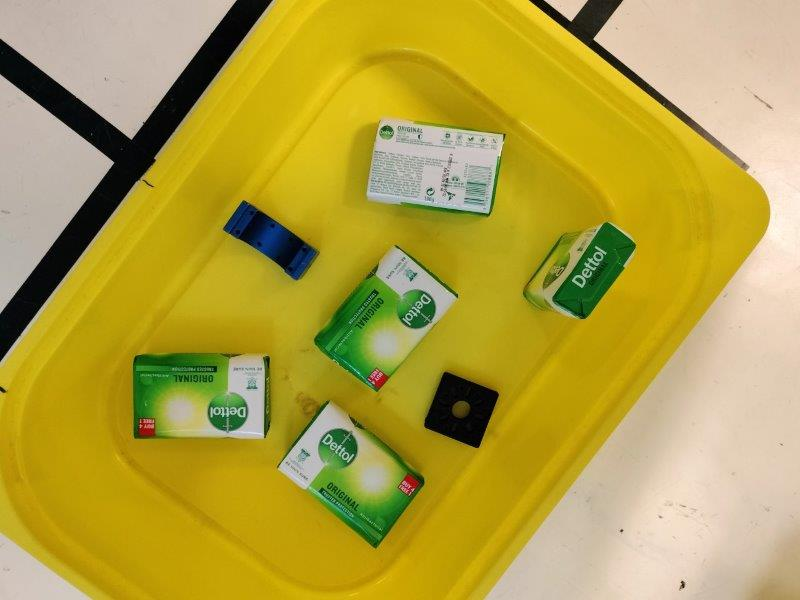Dettol: (276, 400, 424, 548), (316, 245, 459, 391), (365, 119, 506, 218), (131, 353, 270, 439), (524, 221, 637, 321)
